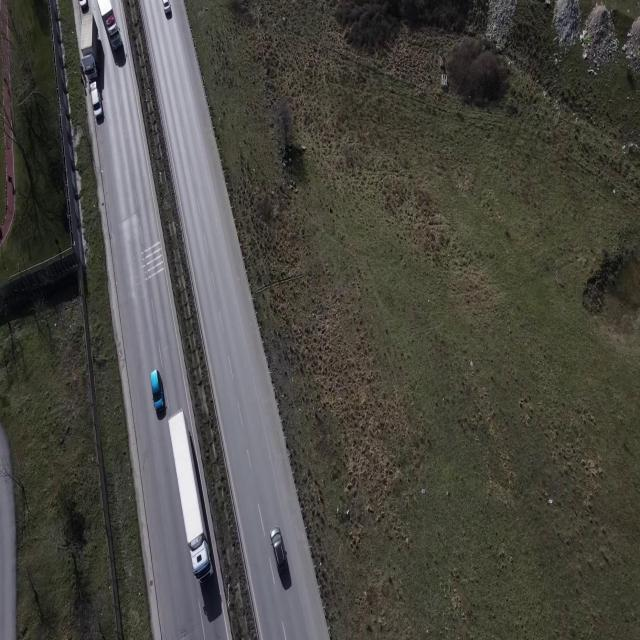p3rson: (80, 62, 86, 79), (80, 77, 86, 89), (8, 175, 14, 187)
